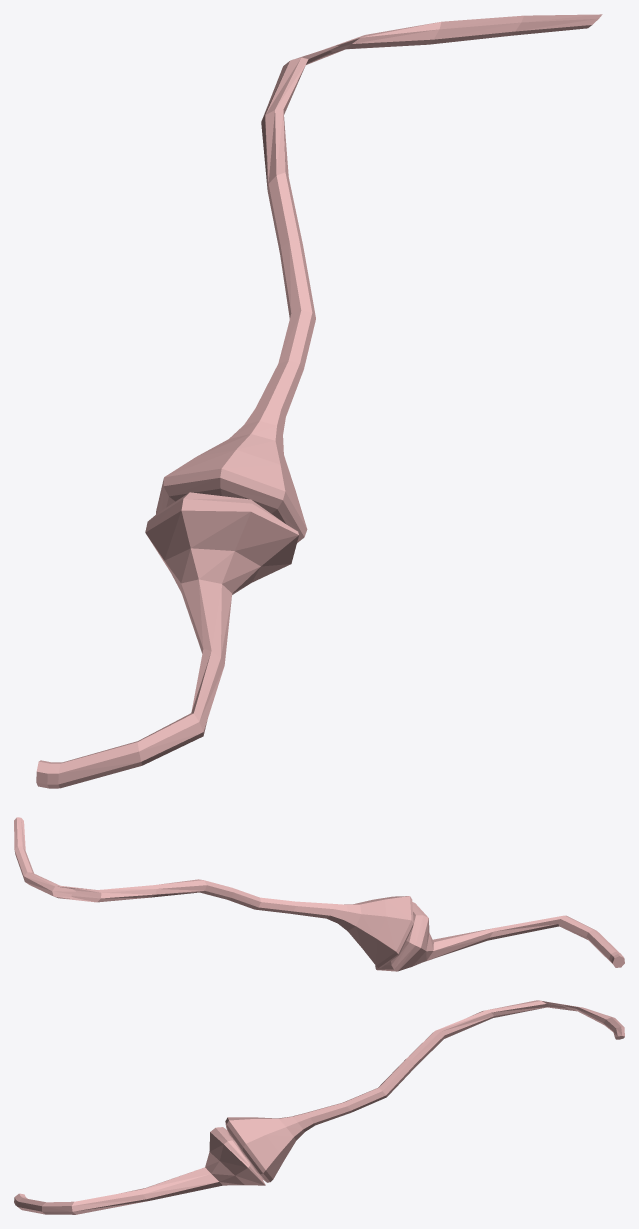
File: Synapse.fbx
3 renders of one model, top to bottom at view 1: azimuth 30°, elevation 25°; view 2: azimuth 150°, elevation 25°; view 3: azimuth 330°, elevation 25°, orthographic. The views are drawn at different scales.
Visible parts, largest first — view 1: Brain_Synapse01, Brain_Synapse02; view 2: Brain_Synapse01, Brain_Synapse02; view 3: Brain_Synapse01, Brain_Synapse02.
Part boxes in pixels (bbox=[...]): Brain_Synapse01: bbox=[156, 14, 602, 542]; Brain_Synapse02: bbox=[36, 492, 298, 788]; Brain_Synapse01: bbox=[14, 817, 413, 967]; Brain_Synapse02: bbox=[375, 902, 624, 971]; Brain_Synapse01: bbox=[225, 1000, 624, 1182]; Brain_Synapse02: bbox=[14, 1127, 265, 1214].
Size of the model in its own units: 5590 by 1918 by 4748.
